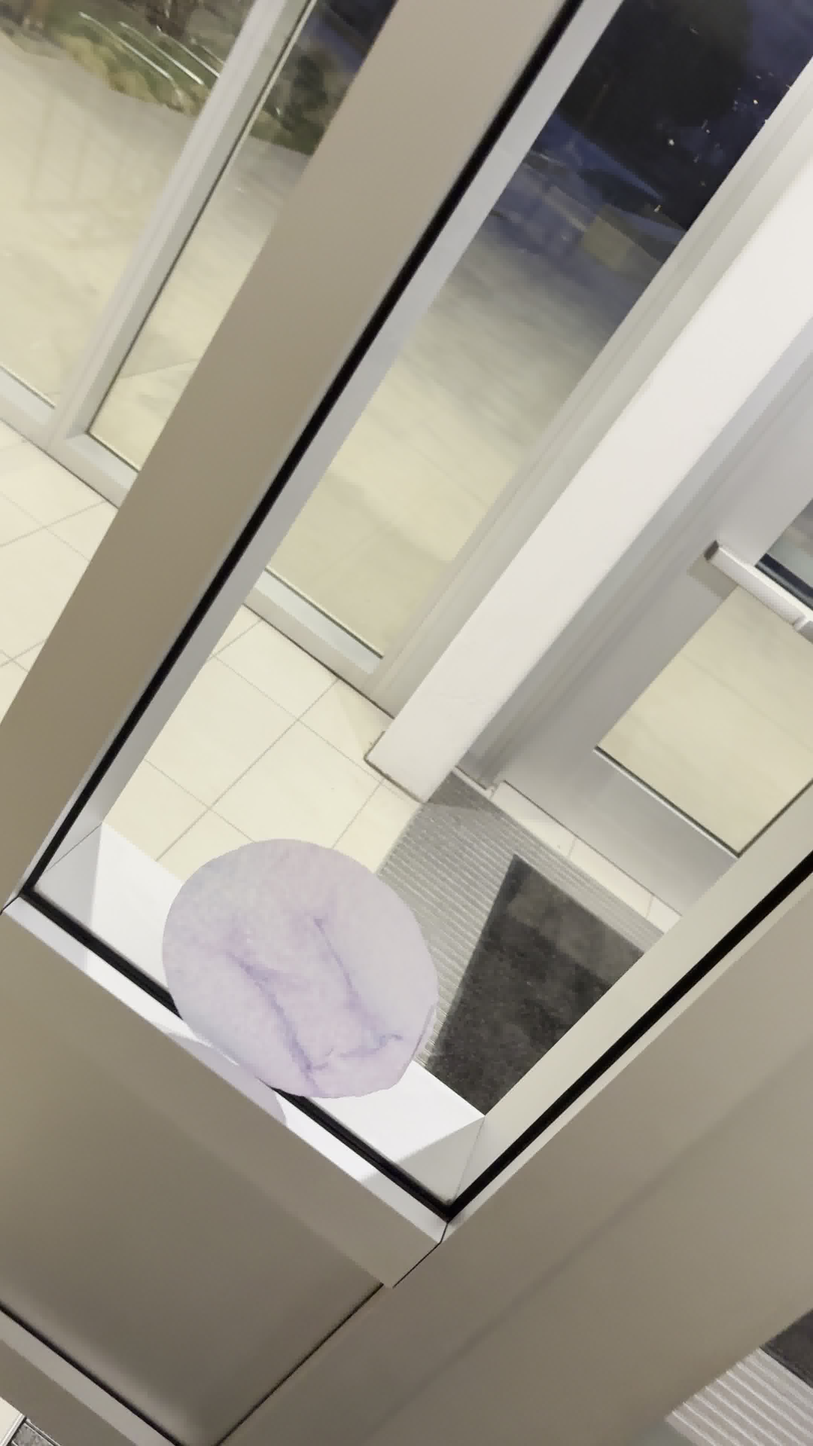Target: (158, 835, 443, 1101)
